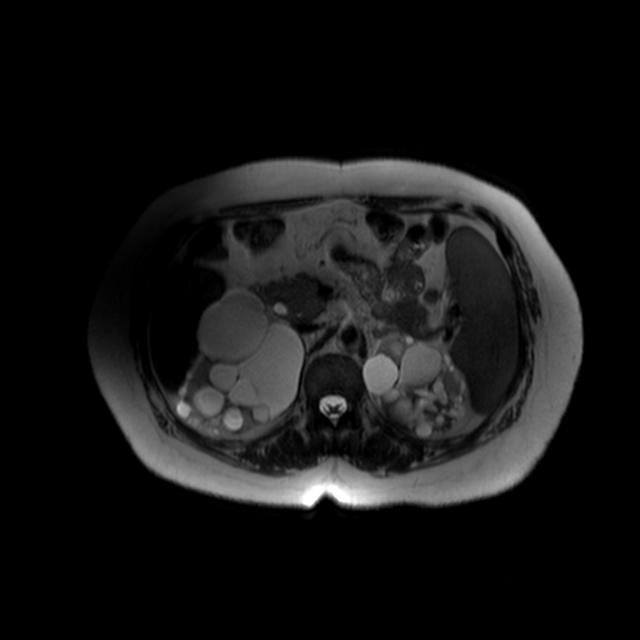sag: (175, 287, 302, 441)
sol: (362, 332, 472, 442)
